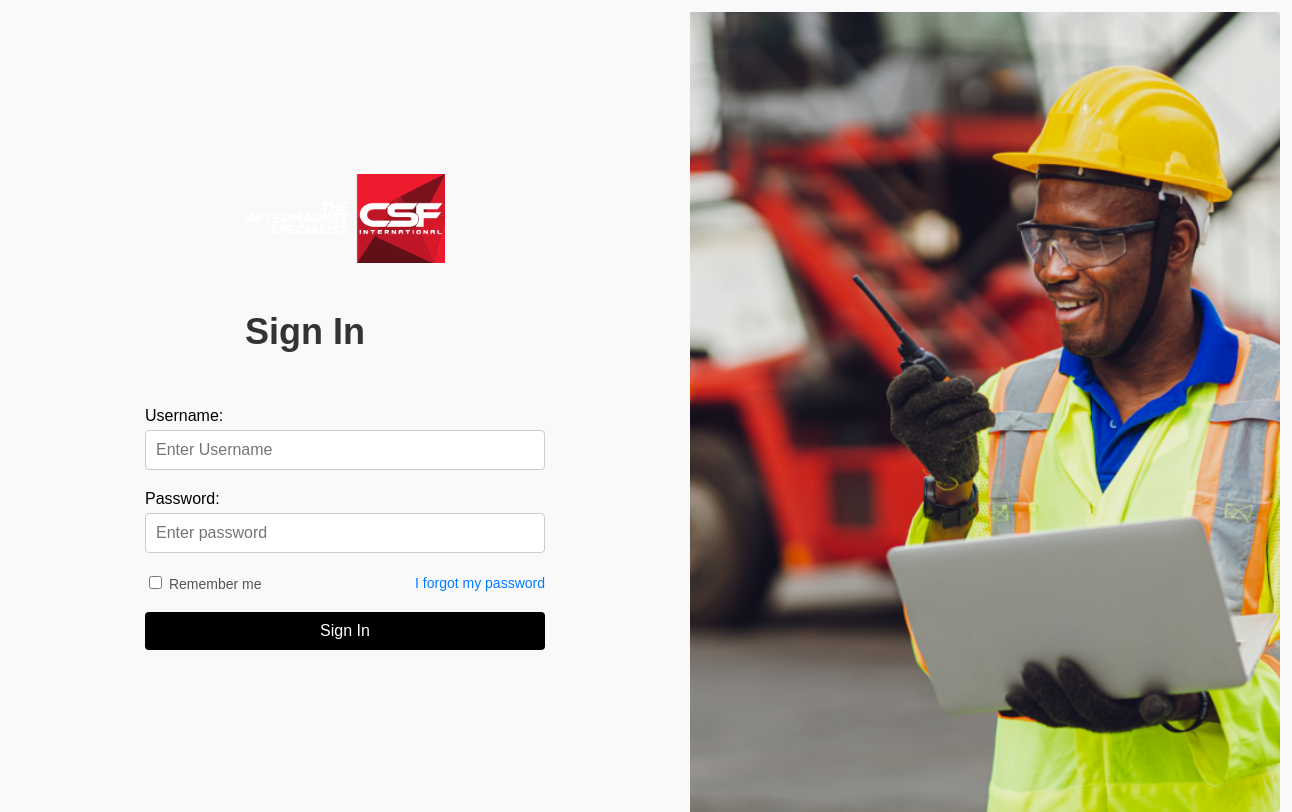
Test: Login Component › handles login failure
In the field labelled "Username:": (345, 450) top-left (145, 430), bottom-right (545, 470), type "testuser"
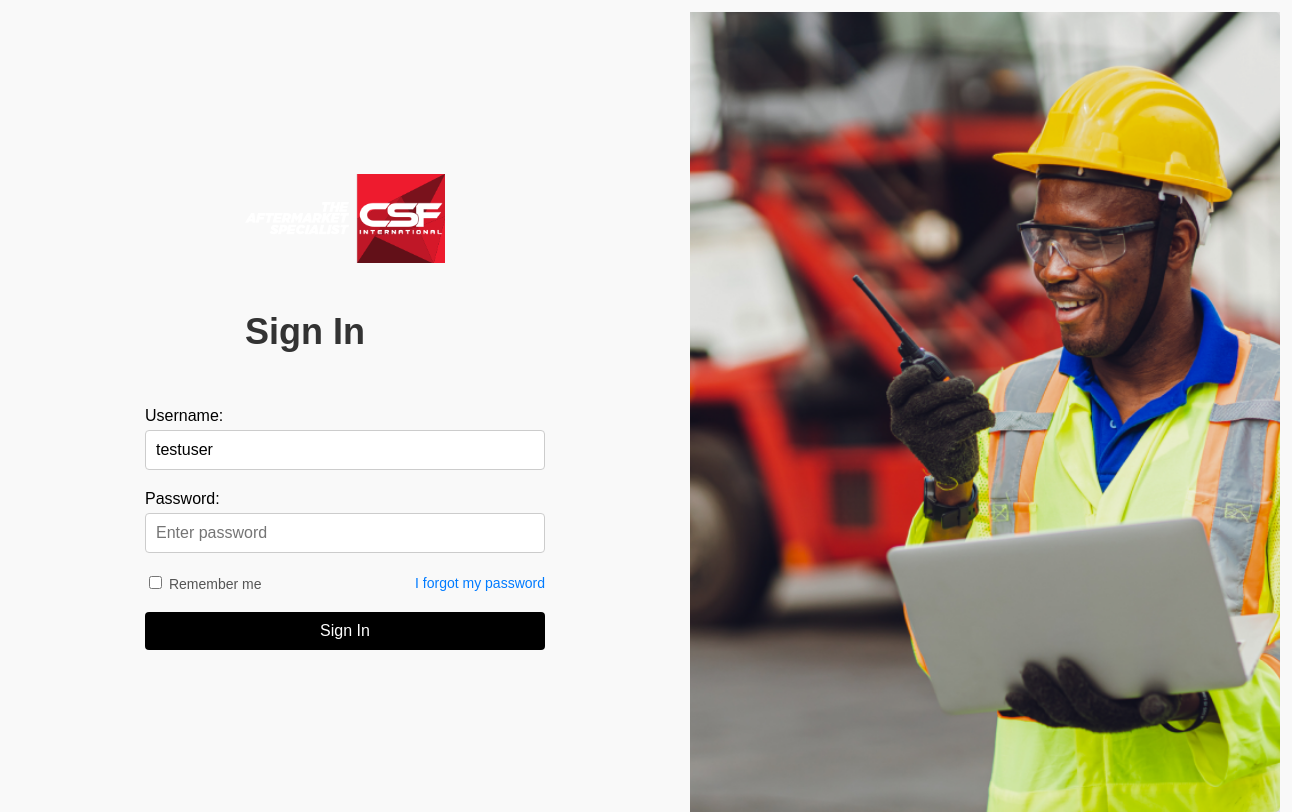
In the password field labelled "Password:": (345, 533) top-left (145, 513), bottom-right (545, 553), type "wrongpassword"
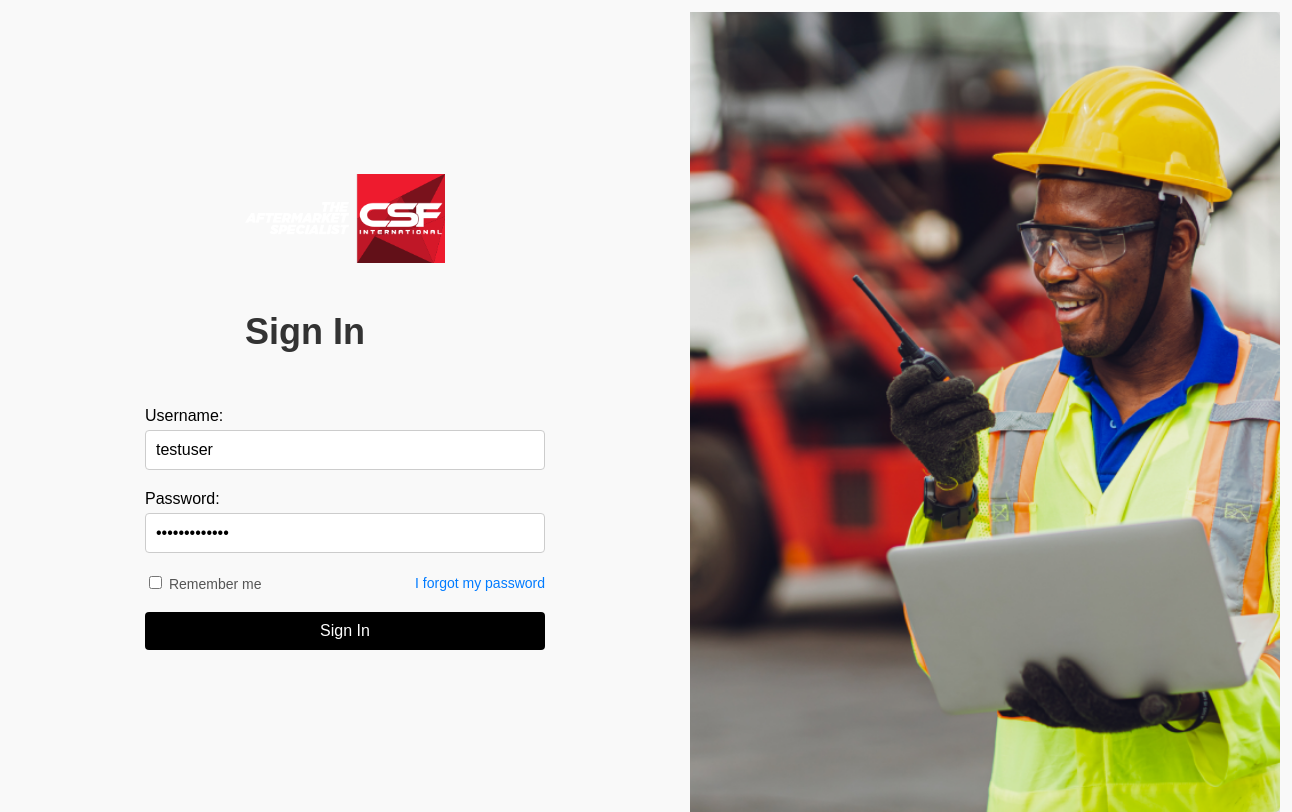
Click the button "Sign In": (345, 631) top-left (145, 612), bottom-right (545, 650)
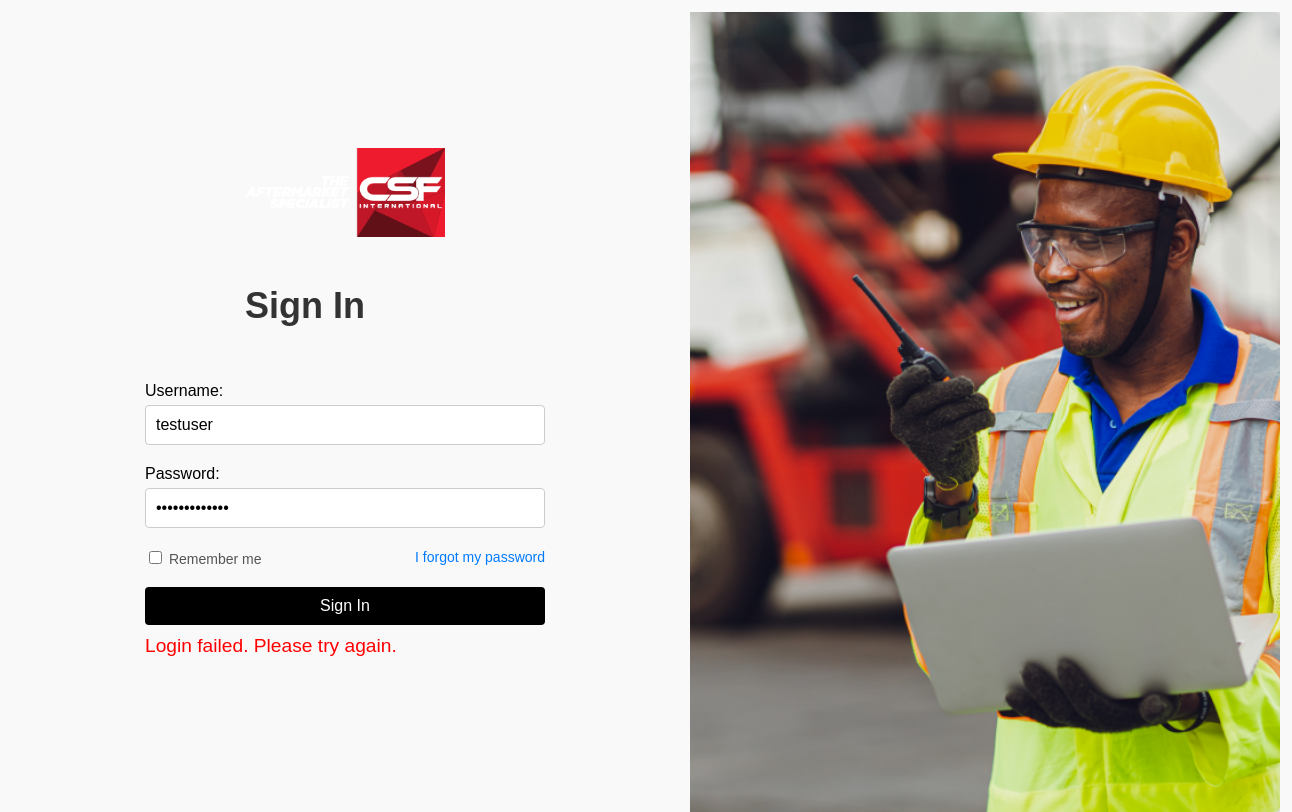
Result: the text "Login failed. Please try again." is shown at top-left (145, 634), bottom-right (397, 656)
